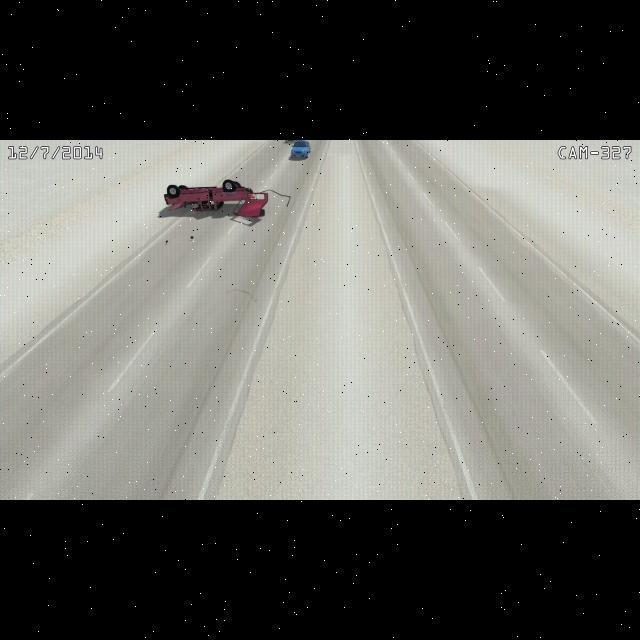severe: (162, 178, 272, 222)
